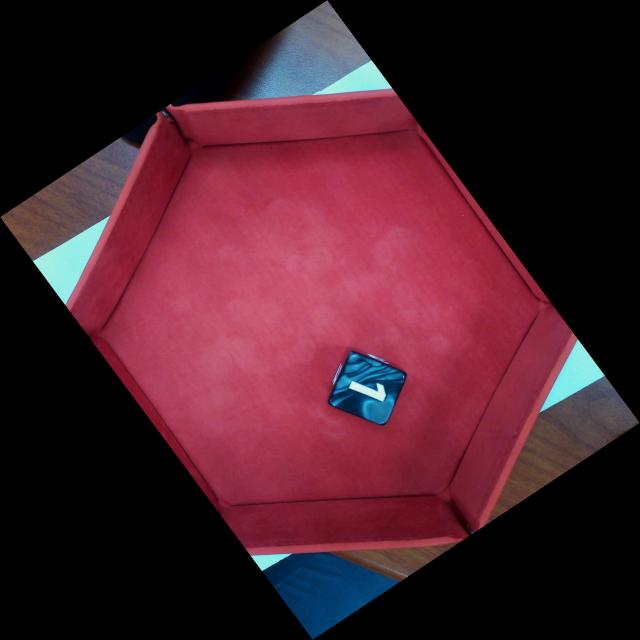dice: (324, 348, 410, 428)
